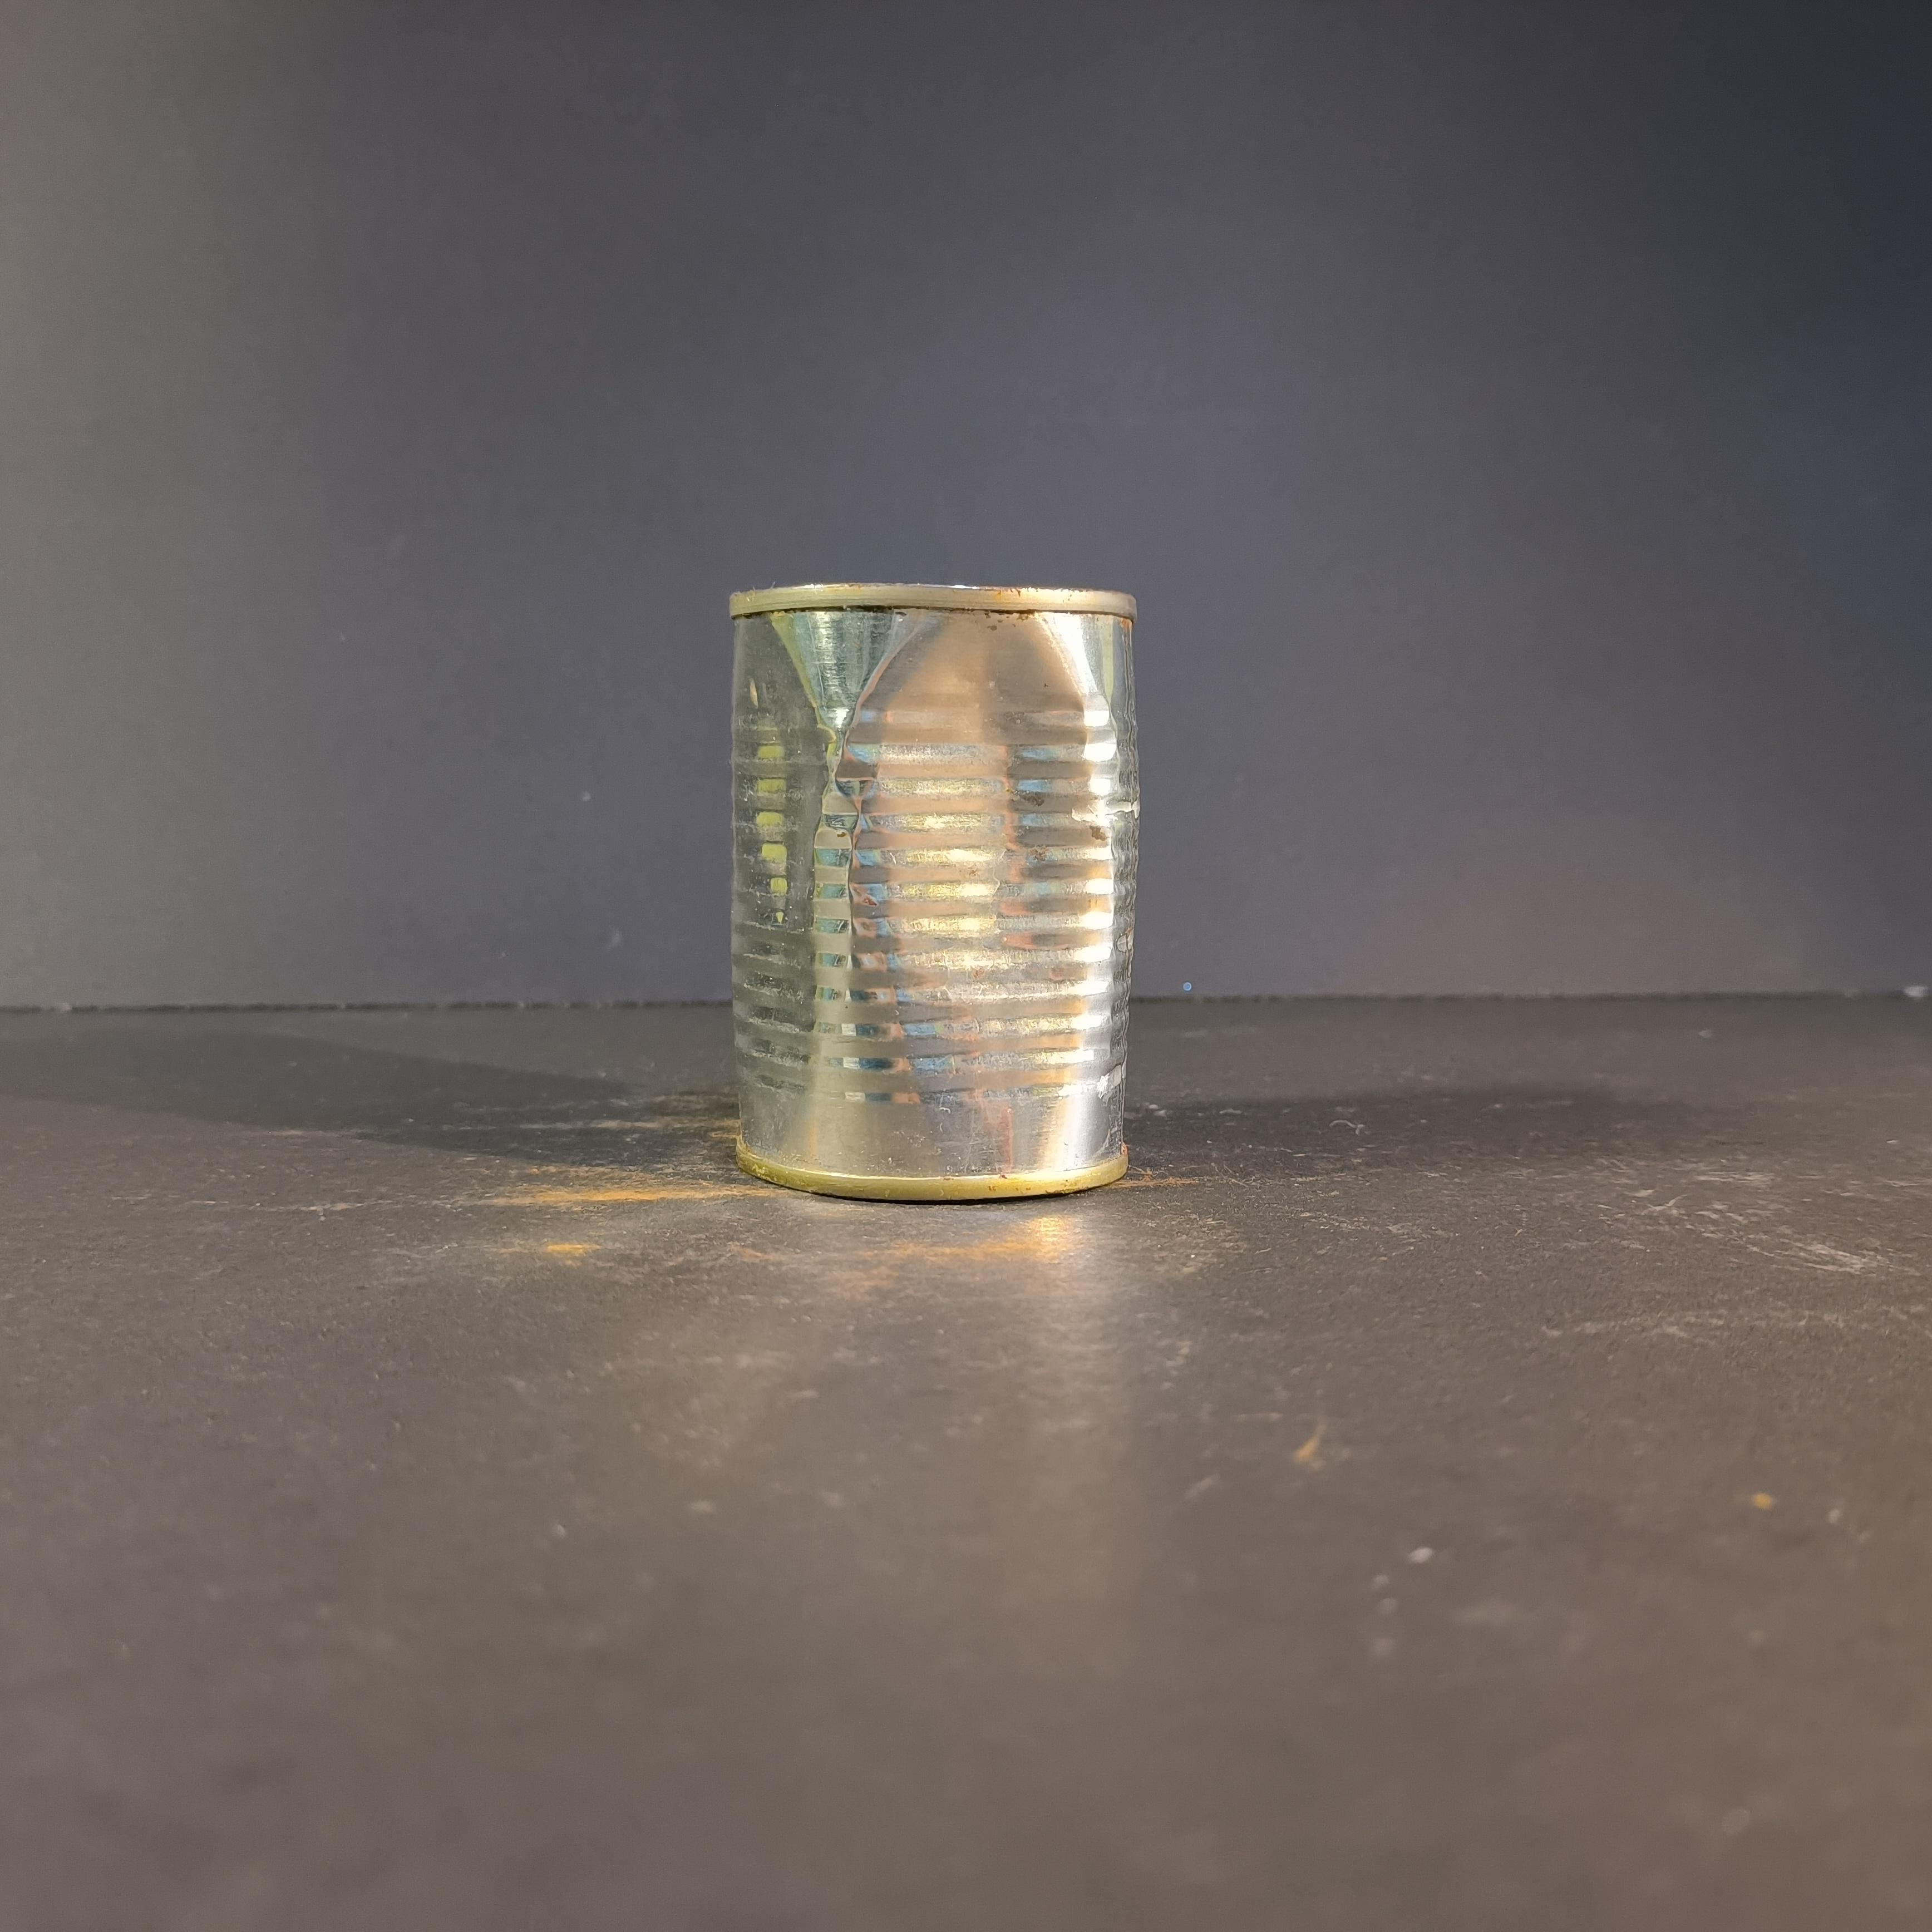Dented: (690, 543, 1161, 1205)
